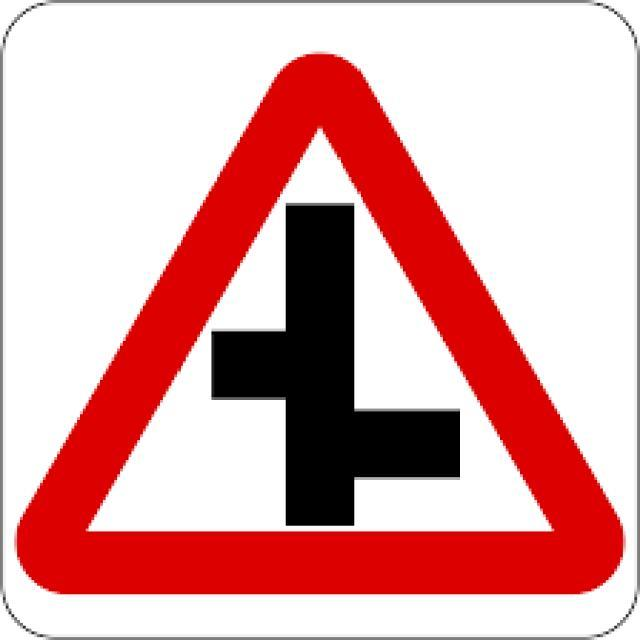staggered intersection: (36, 50, 618, 591)
